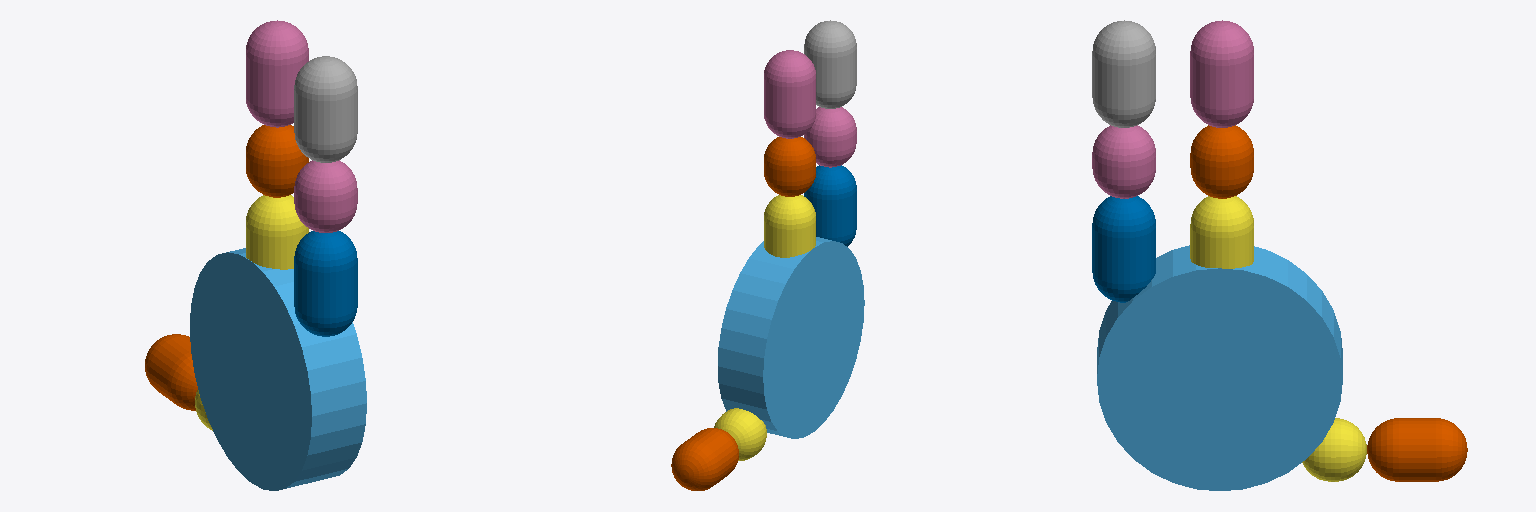
The robot description file, URDF, robot "DexterousHand":
<?xml version="1.0"?>
<robot name="DexterousHand">


    <link name="world"/>
    <joint name="world_to_palm" type="fixed">
        <parent link="world"/>
        <child link="palm"/>
        <origin xyz="0 0 0" rpy="0 0 0"/>
    </joint>
    <link name="palm">
        <inertial>
            <origin xyz="0 0 0.057" rpy="0 0 0"/>
            <mass value="0.30212892864"/>
            <inertia ixx="0.00049080844457568" ixy="0.0" ixz="0.0" iyy="0.00026746366246427523" iyz="0.0" izz="0.00026746366246427523"/>
        </inertial>
        <visual>
            <origin xyz="0 0 0.057" rpy="1.5708 0 1.5708"/>
            <geometry>
                <cylinder radius="0.057" length="0.0296"/>
            </geometry>
            <material name="default"/>
        </visual>
        <collision>
            <origin xyz="0 0 0.057" rpy="1.5708 0 1.5708"/>
            <geometry>
                <cylinder radius="0.057" length="0.0296"/>
            </geometry>
        </collision>
    </link>

    
    <joint name="thumb_joint1" type="revolute">
        <parent link="palm"/>
        <child link="thumb_base"/>
        <origin xyz="0.0029 0.0368 0.0157" rpy="-1.5708 -1.5708 0.0"/>
        <axis xyz="-1 0 0"/>
        <limit lower="-0.349" upper="2.094" effort="1.0" velocity="1.0"/>
    </joint>

    <link name="thumb_base"></link>

    <joint name="thumb_joint2" type="revolute">
        <parent link="thumb_base"/>
        <child link="thumb_proximal"/>
        <origin xyz="0.0 0.0 0.0" rpy="0.0 0.0 0.0"/>
        <axis xyz="0 0 1"/>
        <limit lower="-0.47" upper="2.443" effort="1.0" velocity="1.0"/>
    </joint>

    <link name="thumb_proximal">
        <inertial>
            <origin xyz="0 0 0.01565" rpy="0 0 0"/>
            <mass value="0.021538658803200002"/>
            <inertia ixx="2.9378910096388167e-06" ixy="0.0" ixz="0.0" 
            iyy="2.9378910096388167e-06" iyz="0.0" izz="2.358913912126464e-06"/>
        </inertial>
        <visual>
            <origin xyz="0 0 0.01565" rpy="0 0 0"/>
            <geometry>
                <cylinder radius="0.0148" length="0.0017000000000000001"/>
            </geometry>
            <material name="default"/>
        </visual>
        <visual>
            <origin xyz="0 0 0.0148" rpy="0 0 0"/>
            <geometry>
                <sphere radius="0.0148"/>
            </geometry>
            <material name="default"/>
        </visual>
        <visual>
            <origin xyz="0 0 0.0165" rpy="0 0 0"/>
            <geometry>
                <sphere radius="0.0148"/>
            </geometry>
            <material name="default"/>
        </visual>
        <collision>
            <origin xyz="0 0 0.01565" rpy="0 0 0"/>
            <geometry>
                <cylinder radius="0.0148" length="0.0017000000000000001"/>
            </geometry>
        </collision>
        <collision>
            <origin xyz="0 0 0.0148" rpy="0 0 0"/>
            <geometry>
                <sphere radius="0.0148"/>
            </geometry>
        </collision>
        <collision>
            <origin xyz="0 0 0.0165" rpy="0 0 0"/>
            <geometry>
                <sphere radius="0.0148"/>
            </geometry>
        </collision>
    </link>

    <joint name="thumb_joint3" type="revolute">
        <parent link="thumb_proximal"/>
        <child link="thumb_knuckle"/>
        <origin xyz="0.0 0.0 0.0313" rpy="0.0 0.0 0.0"/>
        <axis xyz="1 0 0"/>
        <limit lower="0.0" upper="0.0" effort="1.0" velocity="1.0"/>
    </joint>

    <link name="thumb_knuckle"></link>

    <joint name="thumb_joint4" type="revolute">
        <parent link="thumb_knuckle"/>
        <child link="thumb_middle"/>
        <origin xyz="0 0 0" rpy="0 0 0"/> 
        <axis xyz="0 1 0"/>
        <limit lower="-1.2" upper="1.9" effort="1.0" velocity="1.0"/>
    </joint>

    <link name="thumb_middle">
        <inertial>
            <origin xyz="0 0 0.0233" rpy="0 0 0"/>
            <mass value="0.032067140582400004"/>
            <inertia ixx="7.5589732685519385e-06" ixy="0.0" ixz="0.0" 
            iyy="7.5589732685519385e-06" iyz="0.0" izz="3.5119932365844485e-06"/>
        </inertial>
        <visual>
            <origin xyz="0 0 0.0233" rpy="0 0 0"/>
            <geometry>
                <cylinder radius="0.0148" length="0.017"/>
            </geometry>
            <material name="default"/>
        </visual>
        <visual>
            <origin xyz="0 0 0.0148" rpy="0 0 0"/>
            <geometry>
                <sphere radius="0.0148"/>
            </geometry>
            <material name="default"/>
        </visual>
        <visual>
            <origin xyz="0 0 0.0318" rpy="0 0 0"/>
            <geometry>
                <sphere radius="0.0148"/>
            </geometry>
            <material name="default"/>
        </visual>
        <collision>
            <origin xyz="0 0 0.0233" rpy="0 0 0"/>
            <geometry>
                <cylinder radius="0.0148" length="0.017"/>
            </geometry>
        </collision>
        <collision>
            <origin xyz="0 0 0.0148" rpy="0 0 0"/>
            <geometry>
                <sphere radius="0.0148"/>
            </geometry>
        </collision>
        <collision>
            <origin xyz="0 0 0.0318" rpy="0 0 0"/>
            <geometry>
                <sphere radius="0.0148"/>
            </geometry>
        </collision>
    </link>

    <joint name="thumb_joint5" type="revolute">
        <parent link="thumb_middle"/>
        <child link="thumb_distal"/>
        <origin xyz="0 0 0.0466" rpy="0 0 0"/> 
        <axis xyz="0 1 0"/>
        <limit lower="0.0" upper="0.0" effort="1.0" velocity="1.0"/>
    </joint>

    <link name="thumb_distal">
    </link>

    
    <joint name="index_joint1" type="revolute">
        <parent link="palm"/>
        <child link="index_proximal"/>
        <origin xyz="0.0 0.0 0.0" rpy="0.0 0.0 0.0"/>
        <axis xyz="1 0 0"/>
        <limit lower="0.0" upper="0.0" effort="1.0" velocity="1.0"/>
    </joint>

    <link name="index_proximal">
    </link>

    <joint name="index_joint2" type="revolute">
        <parent link="index_proximal"/>
        <child link="index_dummy"/>
        <origin xyz="0.0 0.0 0.0" rpy="0.0 0.0 0.0"/>
        <axis xyz="0 1 0"/>
        <limit lower="0.0" upper="0.0" effort="1.0" velocity="1.0"/>
    </joint>

    <link name="index_dummy"></link>

    <joint name="index_joint3" type="revolute">
        <parent link="index_dummy"/>
        <child link="index_middle"/>
        <origin xyz="0 0 0" rpy="0 0 0"/>
        <axis xyz="0 1 0"/>
        <limit lower="0.0" upper="0.0" effort="1.0" velocity="1.0"/>
    </joint>

    <link name="index_middle">
    </link>

    <joint name="index_joint4" type="revolute">
        <parent link="index_middle"/>
        <child link="index_distal"/>
        <origin xyz="0 0 0" rpy="0 0 0"/> 
        <axis xyz="0 1 0"/>
        <limit lower="0.0" upper="0.0" effort="1.0" velocity="1.0"/>
    </joint>

    <link name="index_distal">
    </link>

    
    <joint name="middle_joint1" type="revolute">
        <parent link="palm"/>
        <child link="middle_proximal"/>
        <origin xyz="0.0 0.0011 0.091" rpy="0.0 0.0 0.0"/>
        <axis xyz="0 1 0"/>
        <limit lower="-0.314" upper="2.23" effort="1.0" velocity="1.0"/>
    </joint>

    <link name="middle_proximal">
        <inertial>
            <origin xyz="0 0 0.02655" rpy="0 0 0"/>
            <mass value="0.036540024998400006"/>
            <inertia ixx="1.058665009272394e-05" ixy="0.0" ixz="0.0" 
            iyy="1.058665009272394e-05" iyz="0.0" izz="4.001863537824769e-06"/>
        </inertial>
        <visual>
            <origin xyz="0 0 0.02655" rpy="0 0 0"/>
            <geometry>
                <cylinder radius="0.0148" length="0.0235"/>
            </geometry>
            <material name="default"/>
        </visual>
        <visual>
            <origin xyz="0 0 0.0148" rpy="0 0 0"/>
            <geometry>
                <sphere radius="0.0148"/>
            </geometry>
            <material name="default"/>
        </visual>
        <visual>
            <origin xyz="0 0 0.0383" rpy="0 0 0"/>
            <geometry>
                <sphere radius="0.0148"/>
            </geometry>
            <material name="default"/>
        </visual>
        <collision>
            <origin xyz="0 0 0.02655" rpy="0 0 0"/>
            <geometry>
                <cylinder radius="0.0148" length="0.0235"/>
            </geometry>
        </collision>
        <collision>
            <origin xyz="0 0 0.0148" rpy="0 0 0"/>
            <geometry>
                <sphere radius="0.0148"/>
            </geometry>
        </collision>
        <collision>
            <origin xyz="0 0 0.0383" rpy="0 0 0"/>
            <geometry>
                <sphere radius="0.0148"/>
            </geometry>
        </collision>
    </link>

    <joint name="middle_joint2" type="revolute">
        <parent link="middle_proximal"/>
        <child link="middle_dummy"/>
        <origin xyz="0.0 0.0 0.038" rpy="0.0 0.0 0.0"/>
        <axis xyz="1 0 0"/>
        <limit lower="-1.047" upper="1.047" effort="1.0" velocity="1.0"/>
    </joint>

    <link name="middle_dummy"></link>

    <joint name="middle_joint3" type="revolute">
        <parent link="middle_dummy"/>
        <child link="middle_middle"/>
        <origin xyz="0 0 0.015100000000000002" rpy="0 0 0"/>
        <axis xyz="0 1 0"/>
        <limit lower="-0.506" upper="1.885" effort="1.0" velocity="1.0"/>
    </joint>

    <link name="middle_middle">
        <inertial>
            <origin xyz="0 0 0.01805" rpy="0 0 0"/>
            <mass value="0.0248417119104"/>
            <inertia ixx="4.058162759109537e-06" ixy="0.0" ixz="0.0" 
            iyy="4.058162759109537e-06" iyz="0.0" izz="2.7206642884270085e-06"/>
        </inertial>
        <visual>
            <origin xyz="0 0 0.01805" rpy="0 0 0"/>
            <geometry>
                <cylinder radius="0.0148" length="0.006499999999999999"/>
            </geometry>
            <material name="default"/>
        </visual>
        <visual>
            <origin xyz="0 0 0.0148" rpy="0 0 0"/>
            <geometry>
                <sphere radius="0.0148"/>
            </geometry>
            <material name="default"/>
        </visual>
        <visual>
            <origin xyz="0 0 0.0213" rpy="0 0 0"/>
            <geometry>
                <sphere radius="0.0148"/>
            </geometry>
            <material name="default"/>
        </visual>
        <collision>
            <origin xyz="0 0 0.01805" rpy="0 0 0"/>
            <geometry>
                <cylinder radius="0.0148" length="0.006499999999999999"/>
            </geometry>
        </collision>
        <collision>
            <origin xyz="0 0 0.0148" rpy="0 0 0"/>
            <geometry>
                <sphere radius="0.0148"/>
            </geometry>
        </collision>
        <collision>
            <origin xyz="0 0 0.0213" rpy="0 0 0"/>
            <geometry>
                <sphere radius="0.0148"/>
            </geometry>
        </collision>
    </link>

    <joint name="middle_joint4" type="revolute">
        <parent link="middle_middle"/>
        <child link="middle_distal"/>
        <origin xyz="0 0 0.0361" rpy="0 0 0"/> 
        <axis xyz="0 1 0"/>
        <limit lower="-0.366" upper="2.042" effort="1.0" velocity="1.0"/>
    </joint>

    <link name="middle_distal">
        <inertial>
            <origin xyz="0 0 0.026" rpy="0 0 0"/>
            <mass value="0.035783075328"/>
            <inertia ixx="1.002260084553728e-05" ixy="0.0" ixz="0.0" 
            iyy="1.002260084553728e-05" iyz="0.0" izz="3.91896240992256e-06"/>
        </inertial>
        <visual>
            <origin xyz="0 0 0.026" rpy="0 0 0"/>
            <geometry>
                <cylinder radius="0.0148" length="0.022399999999999996"/>
            </geometry>
            <material name="default"/>
        </visual>
        <visual>
            <origin xyz="0 0 0.0148" rpy="0 0 0"/>
            <geometry>
                <sphere radius="0.0148"/>
            </geometry>
            <material name="default"/>
        </visual>
        <visual>
            <origin xyz="0 0 0.0372" rpy="0 0 0"/>
            <geometry>
                <sphere radius="0.0148"/>
            </geometry>
            <material name="default"/>
        </visual>
        <collision>
            <origin xyz="0 0 0.026" rpy="0 0 0"/>
            <geometry>
                <cylinder radius="0.0148" length="0.022399999999999996"/>
            </geometry>
        </collision>
        <collision>
            <origin xyz="0 0 0.0148" rpy="0 0 0"/>
            <geometry>
                <sphere radius="0.0148"/>
            </geometry>
        </collision>
        <collision>
            <origin xyz="0 0 0.0372" rpy="0 0 0"/>
            <geometry>
                <sphere radius="0.0148"/>
            </geometry>
        </collision>
    </link>

    
    <joint name="ring_joint1" type="revolute">
        <parent link="palm"/>
        <child link="ring_proximal"/>
        <origin xyz="0.0 0.0 0.0" rpy="0.0 0.0 0.0"/>
        <axis xyz="1 0 0"/>
        <limit lower="0.0" upper="0.0" effort="1.0" velocity="1.0"/>
    </joint>

    <link name="ring_proximal">
    </link>

    <joint name="ring_joint2" type="revolute">
        <parent link="ring_proximal"/>
        <child link="ring_dummy"/>
        <origin xyz="0.0 0.0 0.0" rpy="0.0 0.0 0.0"/>
        <axis xyz="0 1 0"/>
        <limit lower="0.0" upper="0.0" effort="1.0" velocity="1.0"/>
    </joint>

    <link name="ring_dummy"></link>

    <joint name="ring_joint3" type="revolute">
        <parent link="ring_dummy"/>
        <child link="ring_middle"/>
        <origin xyz="0 0 0" rpy="0 0 0"/>
        <axis xyz="0 1 0"/>
        <limit lower="0.0" upper="0.0" effort="1.0" velocity="1.0"/>
    </joint>

    <link name="ring_middle">
    </link>

    <joint name="ring_joint4" type="revolute">
        <parent link="ring_middle"/>
        <child link="ring_distal"/>
        <origin xyz="0 0 0" rpy="0 0 0"/> 
        <axis xyz="0 1 0"/>
        <limit lower="0.0" upper="0.0" effort="1.0" velocity="1.0"/>
    </joint>

    <link name="ring_distal">
    </link>

    
    <joint name="little_joint0" type="revolute">
        <parent link="palm"/>
        <child link="little_base"/>
        <origin xyz="0.0 0.0 0.0" rpy="0.0 0.0 0.0"/>
        <axis xyz="0 1 0"/>
        <limit lower="0.0" upper="0.0" effort="1.0" velocity="1.0"/>
    </joint>

    <link name="little_base"></link>

    <joint name="little_joint1" type="revolute">
        <parent link="little_base"/>
        <child link="little_proximal"/>
        <origin xyz="0.0 -0.0443 0.091" rpy="-0.0 -0.0 -0.0"/>
        <axis xyz="0 1 0"/>
        <limit lower="-0.314" upper="2.23" effort="1.0" velocity="1.0"/>
    </joint>

    <link name="little_proximal">
        <inertial>
            <origin xyz="0 0 0.02655" rpy="0 0 0"/>
            <mass value="0.036540024998400006"/>
            <inertia ixx="1.058665009272394e-05" ixy="0.0" ixz="0.0" 
            iyy="1.058665009272394e-05" iyz="0.0" izz="4.001863537824769e-06"/>
        </inertial>
        <visual>
            <origin xyz="0 0 0.02655" rpy="0 0 0"/>
            <geometry>
                <cylinder radius="0.0148" length="0.0235"/>
            </geometry>
            <material name="default"/>
        </visual>
        <visual>
            <origin xyz="0 0 0.0148" rpy="0 0 0"/>
            <geometry>
                <sphere radius="0.0148"/>
            </geometry>
            <material name="default"/>
        </visual>
        <visual>
            <origin xyz="0 0 0.0383" rpy="0 0 0"/>
            <geometry>
                <sphere radius="0.0148"/>
            </geometry>
            <material name="default"/>
        </visual>
        <collision>
            <origin xyz="0 0 0.02655" rpy="0 0 0"/>
            <geometry>
                <cylinder radius="0.0148" length="0.0235"/>
            </geometry>
        </collision>
        <collision>
            <origin xyz="0 0 0.0148" rpy="0 0 0"/>
            <geometry>
                <sphere radius="0.0148"/>
            </geometry>
        </collision>
        <collision>
            <origin xyz="0 0 0.0383" rpy="0 0 0"/>
            <geometry>
                <sphere radius="0.0148"/>
            </geometry>
        </collision>
    </link>

    <joint name="little_joint2" type="revolute">
        <parent link="little_proximal"/>
        <child link="little_dummy"/>
        <origin xyz="0.0 0.0 0.038" rpy="0.0 0.0 0.0"/>
        <axis xyz="1 0 0"/>
        <limit lower="-1.047" upper="1.047" effort="1.0" velocity="1.0"/>
    </joint>

    <link name="little_dummy"></link>

    <joint name="little_joint3" type="revolute">
        <parent link="little_dummy"/>
        <child link="little_middle"/>
        <origin xyz="0 0 0.015100000000000002" rpy="0 0 0"/>
        <axis xyz="0 1 0"/>
        <limit lower="-0.506" upper="1.885" effort="1.0" velocity="1.0"/>
    </joint>

    <link name="little_middle">
        <inertial>
            <origin xyz="0 0 0.01805" rpy="0 0 0"/>
            <mass value="0.0248417119104"/>
            <inertia ixx="4.058162759109537e-06" ixy="0.0" ixz="0.0" 
            iyy="4.058162759109537e-06" iyz="0.0" izz="2.7206642884270085e-06"/>
        </inertial>
        <visual>
            <origin xyz="0 0 0.01805" rpy="0 0 0"/>
            <geometry>
                <cylinder radius="0.0148" length="0.006499999999999999"/>
            </geometry>
            <material name="default"/>
        </visual>
        <visual>
            <origin xyz="0 0 0.0148" rpy="0 0 0"/>
            <geometry>
                <sphere radius="0.0148"/>
            </geometry>
            <material name="default"/>
        </visual>
        <visual>
            <origin xyz="0 0 0.0213" rpy="0 0 0"/>
            <geometry>
                <sphere radius="0.0148"/>
            </geometry>
            <material name="default"/>
        </visual>
        <collision>
            <origin xyz="0 0 0.01805" rpy="0 0 0"/>
            <geometry>
                <cylinder radius="0.0148" length="0.006499999999999999"/>
            </geometry>
        </collision>
        <collision>
            <origin xyz="0 0 0.0148" rpy="0 0 0"/>
            <geometry>
                <sphere radius="0.0148"/>
            </geometry>
        </collision>
        <collision>
            <origin xyz="0 0 0.0213" rpy="0 0 0"/>
            <geometry>
                <sphere radius="0.0148"/>
            </geometry>
        </collision>
    </link>

    <joint name="little_joint4" type="revolute">
        <parent link="little_middle"/>
        <child link="little_distal"/>
        <origin xyz="0 0 0.0361" rpy="0 0 0"/>
        <axis xyz="0 1 0"/>
        <limit lower="-0.366" upper="2.042" effort="1.0" velocity="1.0"/>
    </joint>

    <link name="little_distal">
        <inertial>
            <origin xyz="0 0 0.026" rpy="0 0 0"/>
            <mass value="0.035783075328"/>
            <inertia ixx="1.002260084553728e-05" ixy="0.0" ixz="0.0" 
            iyy="1.002260084553728e-05" iyz="0.0" izz="3.91896240992256e-06"/>
        </inertial>
        <visual>
            <origin xyz="0 0 0.026" rpy="0 0 0"/>
            <geometry>
                <cylinder radius="0.0148" length="0.022399999999999996"/>
            </geometry>
            <material name="default"/>
        </visual>
        <visual>
            <origin xyz="0 0 0.0148" rpy="0 0 0"/>
            <geometry>
                <sphere radius="0.0148"/>
            </geometry>
            <material name="default"/>
        </visual>
        <visual>
            <origin xyz="0 0 0.0372" rpy="0 0 0"/>
            <geometry>
                <sphere radius="0.0148"/>
            </geometry>
            <material name="default"/>
        </visual>
        <collision>
            <origin xyz="0 0 0.026" rpy="0 0 0"/>
            <geometry>
                <cylinder radius="0.0148" length="0.022399999999999996"/>
            </geometry>
        </collision>
        <collision>
            <origin xyz="0 0 0.0148" rpy="0 0 0"/>
            <geometry>
                <sphere radius="0.0148"/>
            </geometry>
        </collision>
        <collision>
            <origin xyz="0 0 0.0372" rpy="0 0 0"/>
            <geometry>
                <sphere radius="0.0148"/>
            </geometry>
        </collision>
    </link>

</robot>

--- What the picture shows (computed from the rendered views, not written in the file) ---
Views: 3 orthographic renders of the robot side by side, from view 1: azimuth 30°, elevation 25°; view 2: azimuth 150°, elevation 25°; view 3: azimuth 270°, elevation 25°.
Model DexterousHand with 24 links and 23 joints (22 revolute, 1 fixed), rooted at world, posed every joint at zero.
Visible links, largest first — view 1: palm, little_proximal, little_distal, middle_distal, little_middle, middle_proximal, middle_middle, thumb_middle; view 2: palm, middle_distal, little_distal, thumb_middle, little_proximal, middle_proximal, middle_middle, little_middle, thumb_proximal; view 3: palm, little_distal, middle_distal, little_proximal, thumb_middle, middle_proximal, little_middle, middle_middle, thumb_proximal.
Boxes of the visible links, x1,y1,x2,y2 form: palm: (190, 248, 366, 490); little_proximal: (294, 231, 357, 336); little_distal: (294, 56, 357, 162); middle_distal: (246, 20, 308, 127); little_middle: (294, 160, 357, 232); middle_proximal: (246, 195, 308, 269); middle_middle: (246, 125, 308, 197); thumb_middle: (145, 334, 197, 410); palm: (718, 237, 864, 438); middle_distal: (764, 50, 815, 138); little_distal: (804, 20, 856, 108); thumb_middle: (671, 428, 738, 490); little_proximal: (804, 165, 856, 246); middle_proximal: (764, 195, 815, 257); middle_middle: (764, 137, 815, 196); little_middle: (804, 107, 856, 167); thumb_proximal: (714, 408, 766, 460); palm: (1097, 245, 1342, 490); little_distal: (1092, 20, 1155, 127); middle_distal: (1190, 20, 1253, 127); little_proximal: (1092, 196, 1155, 302); thumb_middle: (1367, 418, 1467, 481); middle_proximal: (1190, 196, 1253, 268); little_middle: (1092, 125, 1155, 198); middle_middle: (1190, 125, 1253, 198); thumb_proximal: (1302, 418, 1366, 481).
Size in the robot's own frame: 0.0325 by 0.1738 by 0.2322 metres.
Geometry: primitives only (box / cylinder / sphere), no mesh files.
